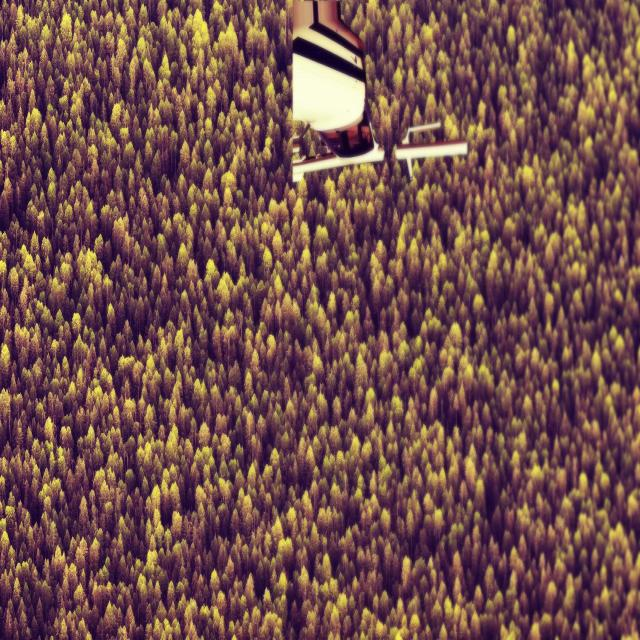airplane: (290, 0, 468, 184)
